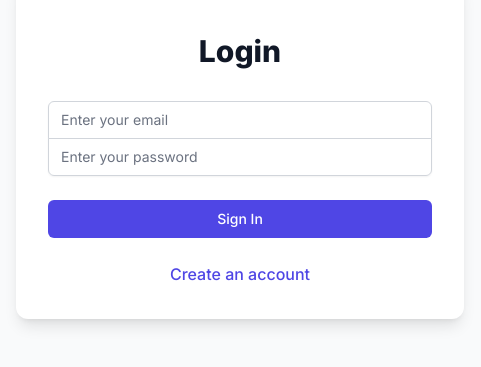
Test: LoginPage › handles unknown login error
In the field with placeholder "Enter your email": (240, 120) [48,101,432,139], type "test@example.com"
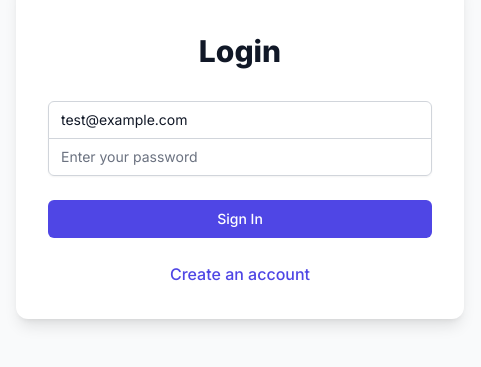
In the password field with placeholder "Enter your password": (240, 157) [48,138,432,176], type "password123"
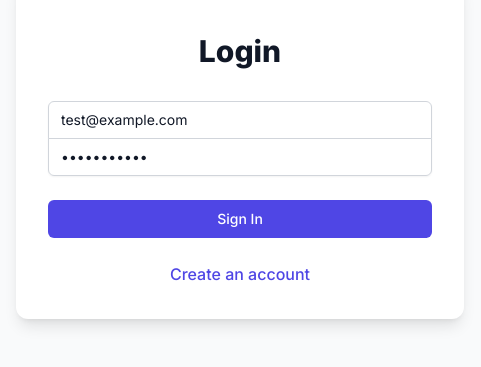
Click the button "Sign In": (240, 219) [48,200,432,238]
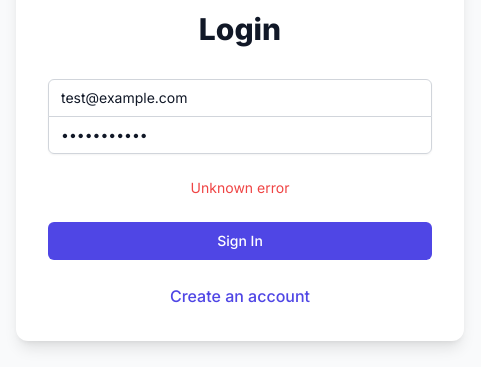
Expected: the text "Unknown error" is shown, [191,179,289,196]
